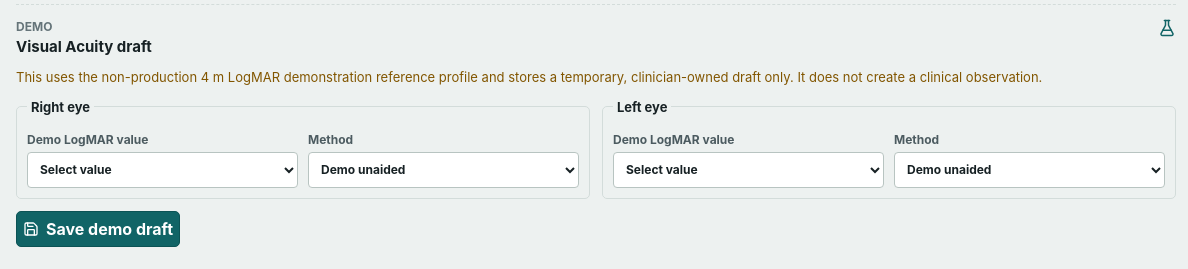
VisualAcuityDraftDemo › clears a previous save confirmation before showing a later client validation error
Select "-0.28" in the dropdown named "Right eye demonstration value". click: [162, 170]
box: [27,152,298,188]
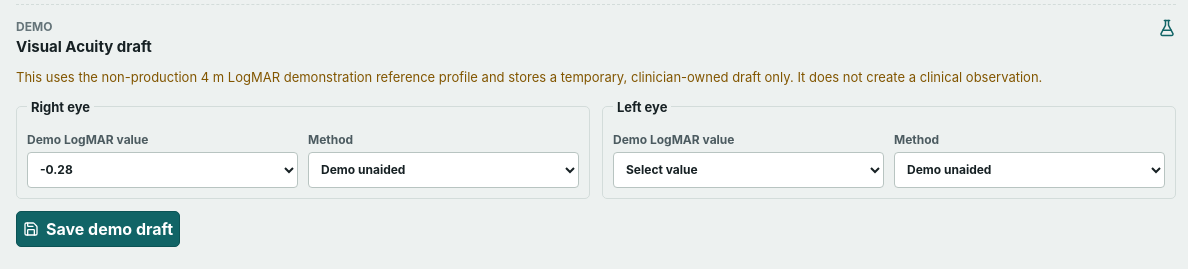
Select "1.50" in the dropdown named "Left eye demonstration value". click: [748, 170]
box: [613,152,884,188]
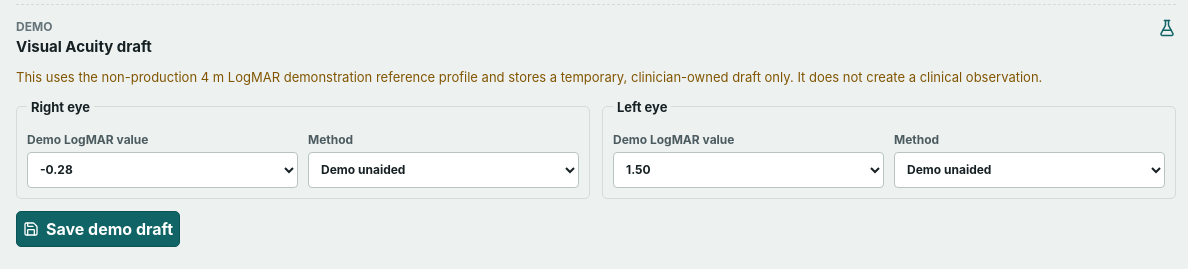
Click the button "Save demo draft". click: [98, 229]
box: [16,211,180,247]
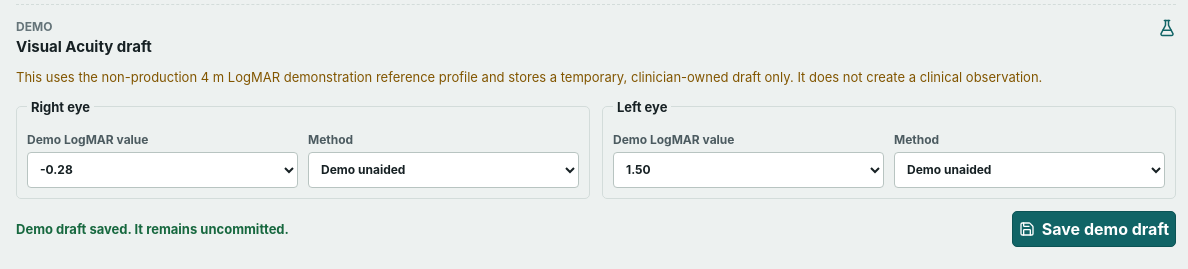
Expected: the message "Demo draft saved. It remains uncommitted." is shown, [16,221,289,237]
Select "Select value" in the dropdown named "Right eye demonstration value". click: [162, 170]
box: [27,152,298,188]
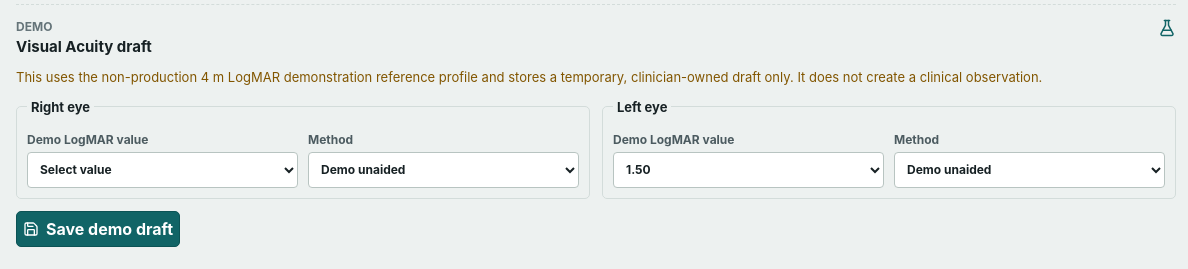
Click the button "Save demo draft". click: [98, 229]
box: [16,211,180,247]
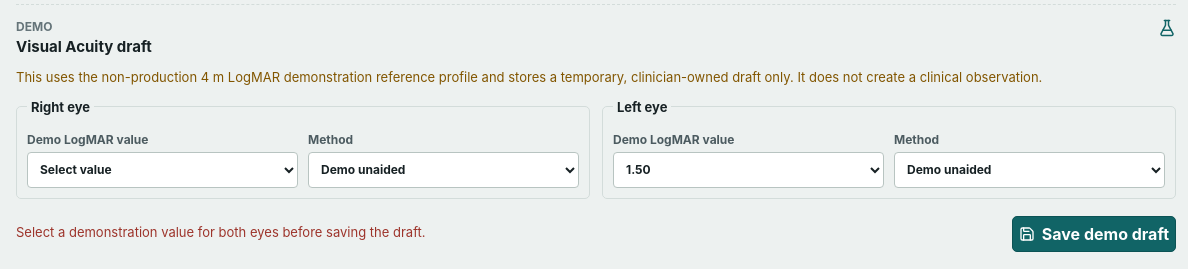
Expected: the message shows "Select a demonstration value for both eyes", [16,224,426,240]
